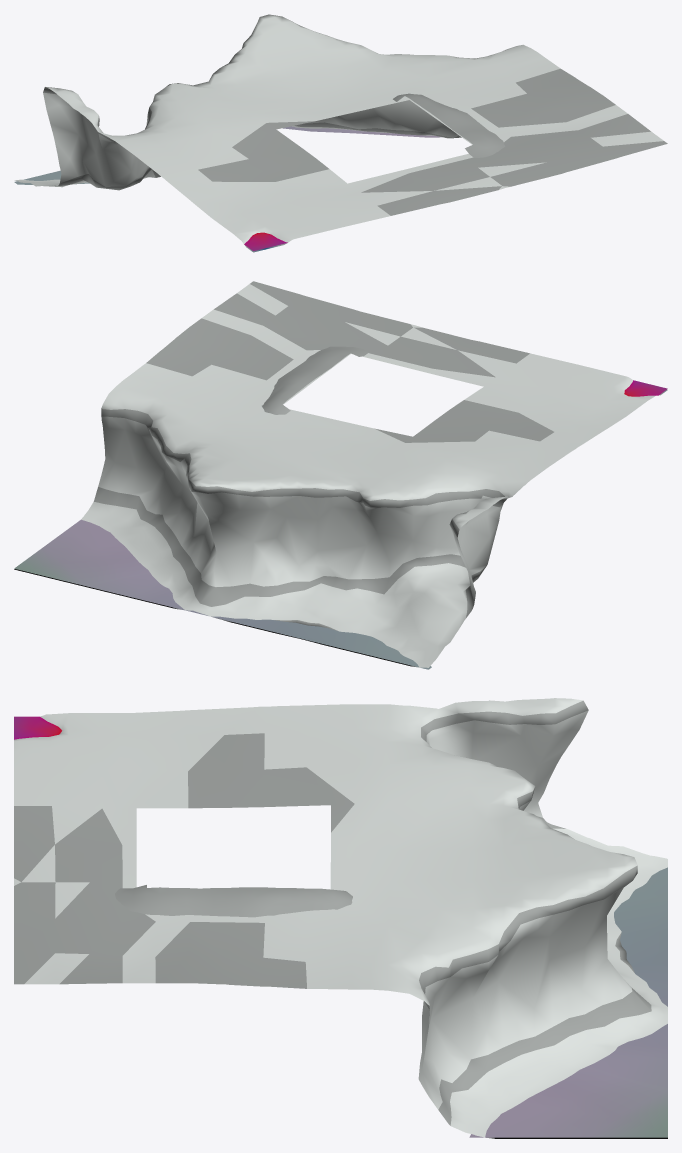
3 views of the same model, one above another, from view 1: azimuth 30°, elevation 25°; view 2: azimuth 150°, elevation 25°; view 3: azimuth 270°, elevation 25° (orthographic). The views are drawn at different scales.
Visible parts, largest first — view 1: G:\FFXIV-MapTools\exports\r2f1\bg\ex1\01_roc_r2\fld\r2f1\bgp (×8); view 2: G:\FFXIV-MapTools\exports\r2f1\bg\ex1\01_roc_r2\fld\r2f1\bgp (×8); view 3: G:\FFXIV-MapTools\exports\r2f1\bg\ex1\01_roc_r2\fld\r2f1\bgp (×8).
Part boxes in pixels (x1=…): G:\FFXIV-MapTools\exports\r2f1\bg\ex1\01_roc_r2\fld\r2f1\bgp (×8): x1=14, y1=14, x2=667, y2=250; G:\FFXIV-MapTools\exports\r2f1\bg\ex1\01_roc_r2\fld\r2f1\bgp (×8): x1=14, y1=281, x2=655, y2=669; G:\FFXIV-MapTools\exports\r2f1\bg\ex1\01_roc_r2\fld\r2f1\bgp (×8): x1=14, y1=698, x2=667, y2=1137.
Bounding box in the file's own units: 128 × 35.5 × 128.
